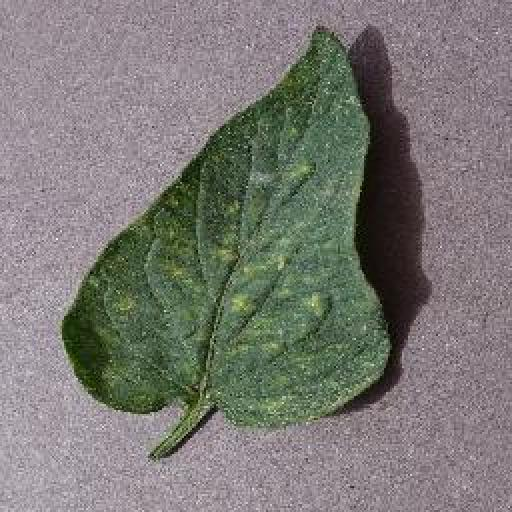Spider Mites: (62, 21, 390, 428)
